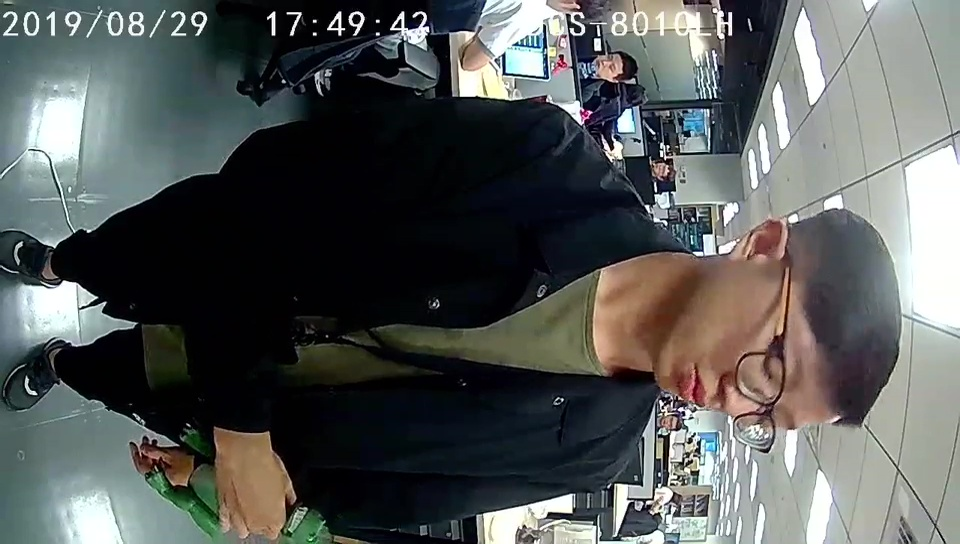rex: (144, 424, 326, 544)
